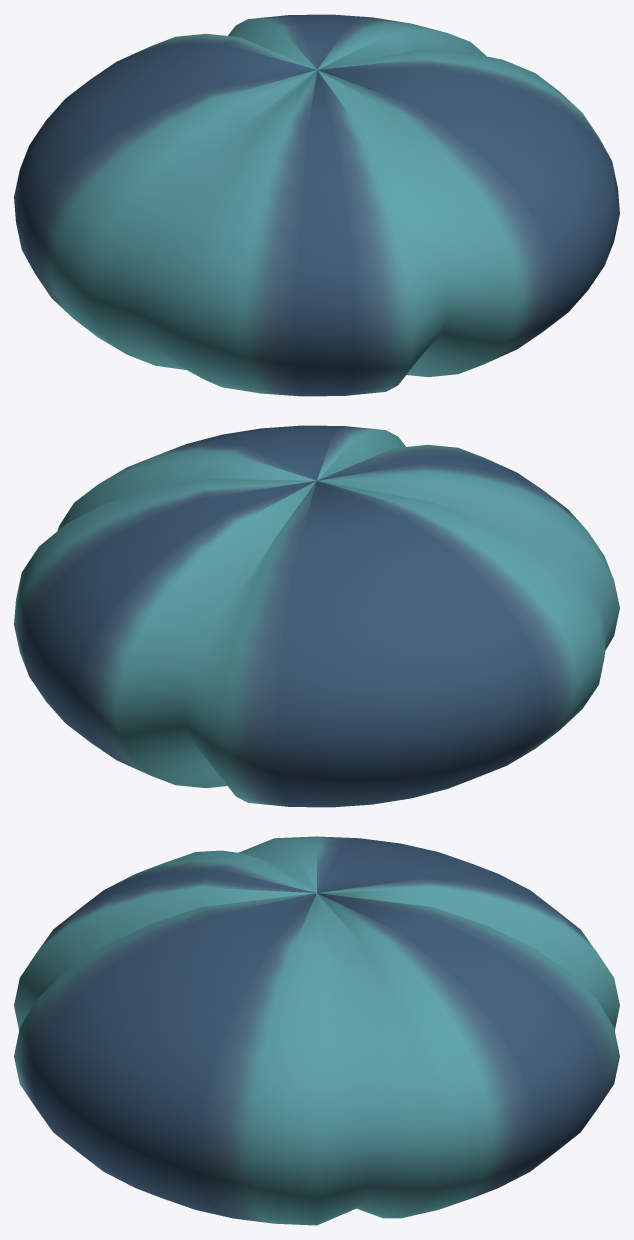
Rendered from bonbon4.fbx.
3 renders of one model, top to bottom at view 1: azimuth 30°, elevation 25°; view 2: azimuth 150°, elevation 25°; view 3: azimuth 270°, elevation 25°, orthographic.
Visible parts, largest first — view 1: Sphere; view 2: Sphere; view 3: Sphere.
Boxes of the visible parts, left/top/right/bottom form: Sphere: left=14, top=14, right=619, bottom=396; Sphere: left=14, top=425, right=619, bottom=807; Sphere: left=14, top=836, right=619, bottom=1225.
Bounding box in the file's own units: 200 × 98.52 × 196.
